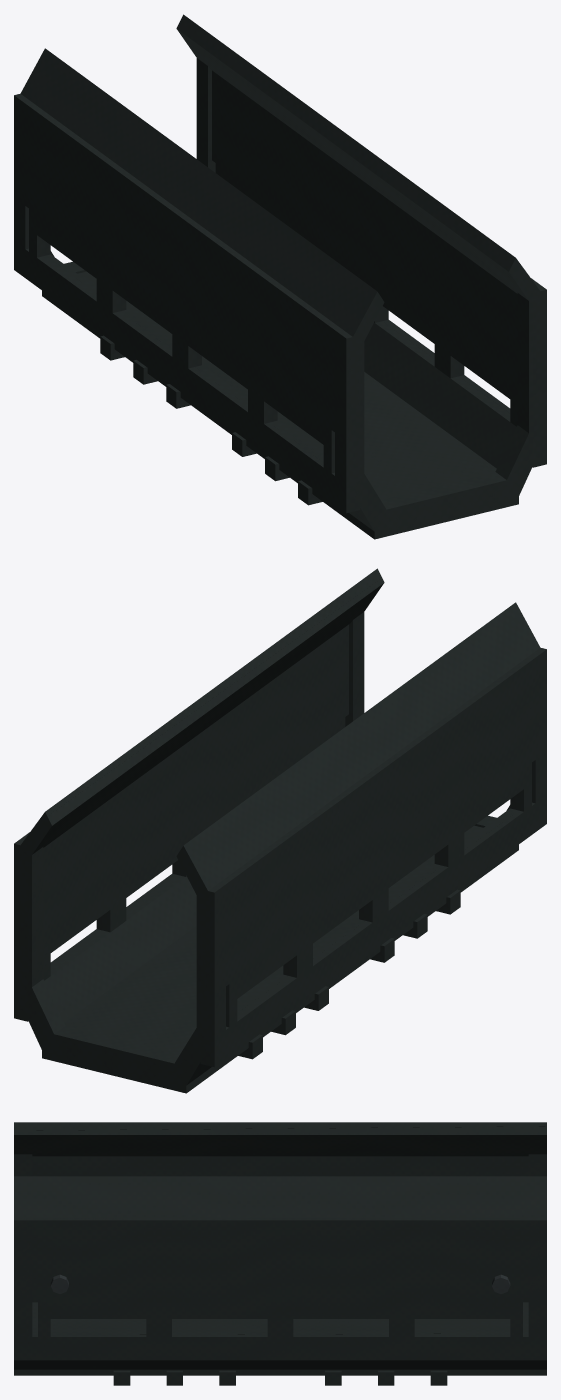
The picture shows the model from 3 angles, top to bottom: view 1: azimuth 30°, elevation 25°; view 2: azimuth 150°, elevation 25°; view 3: azimuth 270°, elevation 25°; orthographic projection. The views are drawn at different scales.
Parts seen in each view (by area): view 1: handguard__ar_poly_LOD0_RAID_Secondary_Original_polymer, handguard__ar_poly_LOD1_RAID_Secondary_Original_polymer; view 2: handguard__ar_poly_LOD0_RAID_Secondary_Original_polymer, handguard__ar_poly_LOD1_RAID_Secondary_Original_polymer; view 3: handguard__ar_poly_LOD0_RAID_Secondary_Original_polymer, handguard__ar_poly_LOD1_RAID_Secondary_Original_polymer, handguard__ar_poly_LOD0_RAID_Secondary_Original_steel.
Boxes of the visible parts, bbox=[...] form: handguard__ar_poly_LOD0_RAID_Secondary_Original_polymer: bbox=[14, 14, 546, 539]; handguard__ar_poly_LOD1_RAID_Secondary_Original_polymer: bbox=[14, 58, 546, 538]; handguard__ar_poly_LOD0_RAID_Secondary_Original_polymer: bbox=[14, 568, 546, 1093]; handguard__ar_poly_LOD1_RAID_Secondary_Original_polymer: bbox=[14, 648, 544, 1092]; handguard__ar_poly_LOD0_RAID_Secondary_Original_polymer: bbox=[14, 1122, 546, 1385]; handguard__ar_poly_LOD1_RAID_Secondary_Original_polymer: bbox=[14, 1126, 546, 1385]; handguard__ar_poly_LOD0_RAID_Secondary_Original_steel: bbox=[50, 1274, 510, 1293].
Bounding box in the file's own units: 0.105 × 0.124 × 0.29.
Materials: 2 (2 with a texture image).
